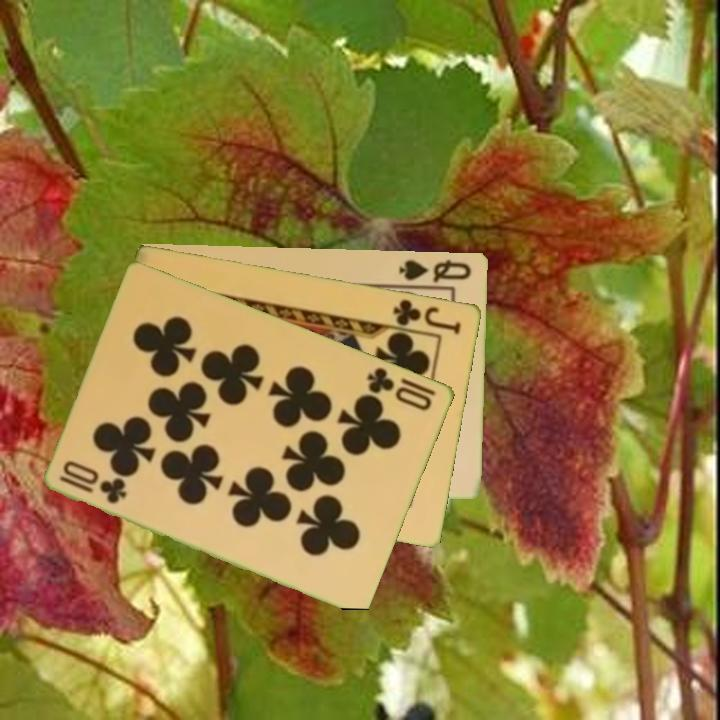10c: (364, 363, 435, 414), (56, 472, 131, 507)
Jc: (390, 295, 465, 337)
Qs: (396, 256, 475, 284)
